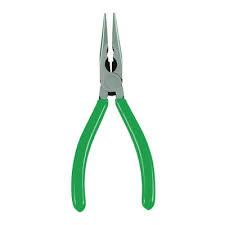pliers: (69, 10, 155, 211)
